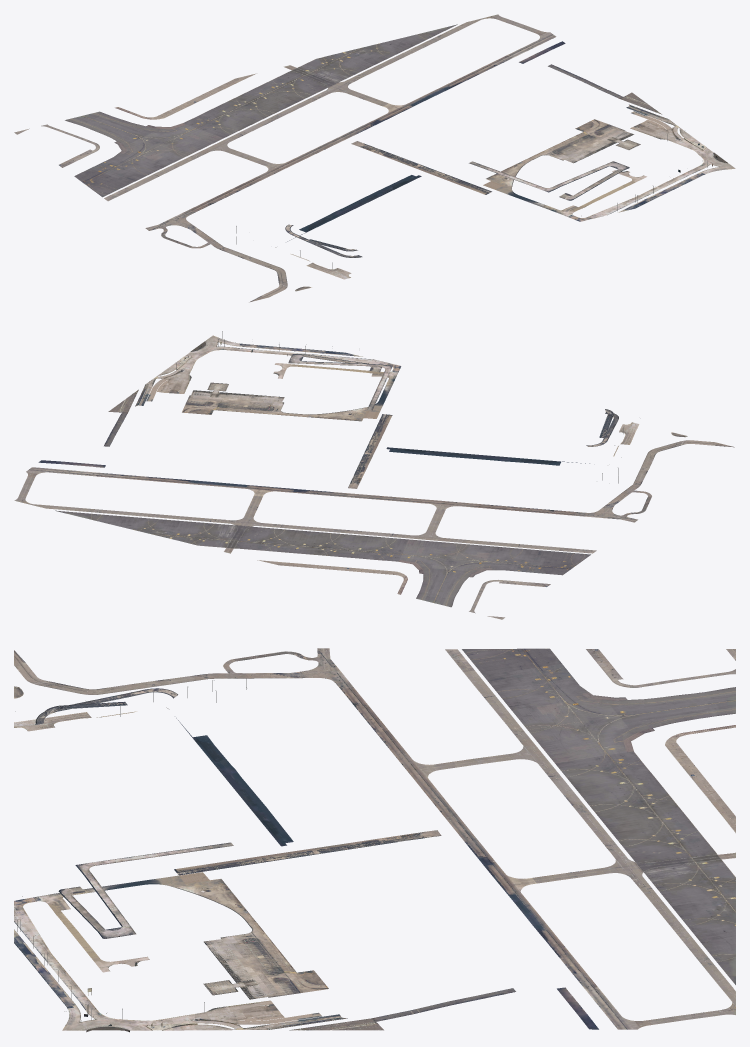
The model's file is roads_context_01.glb.
3 renders of one model, top to bottom at view 1: azimuth 30°, elevation 25°; view 2: azimuth 150°, elevation 25°; view 3: azimuth 270°, elevation 25°, orthographic. The views are drawn at different scales.
Parts seen in each view (by area): view 1: I097501740001062A1.001; view 2: I097501740001062A1.001; view 3: I097501740001062A1.001.
Boxes of the visible parts, box(x1,y1,x2,y2) form: I097501740001062A1.001: box(14, 14, 735, 302); I097501740001062A1.001: box(14, 331, 734, 619); I097501740001062A1.001: box(14, 648, 735, 1032).
Bounding box in the file's own units: 751 × 27.31 × 600.
19 materials, 19 textured.
